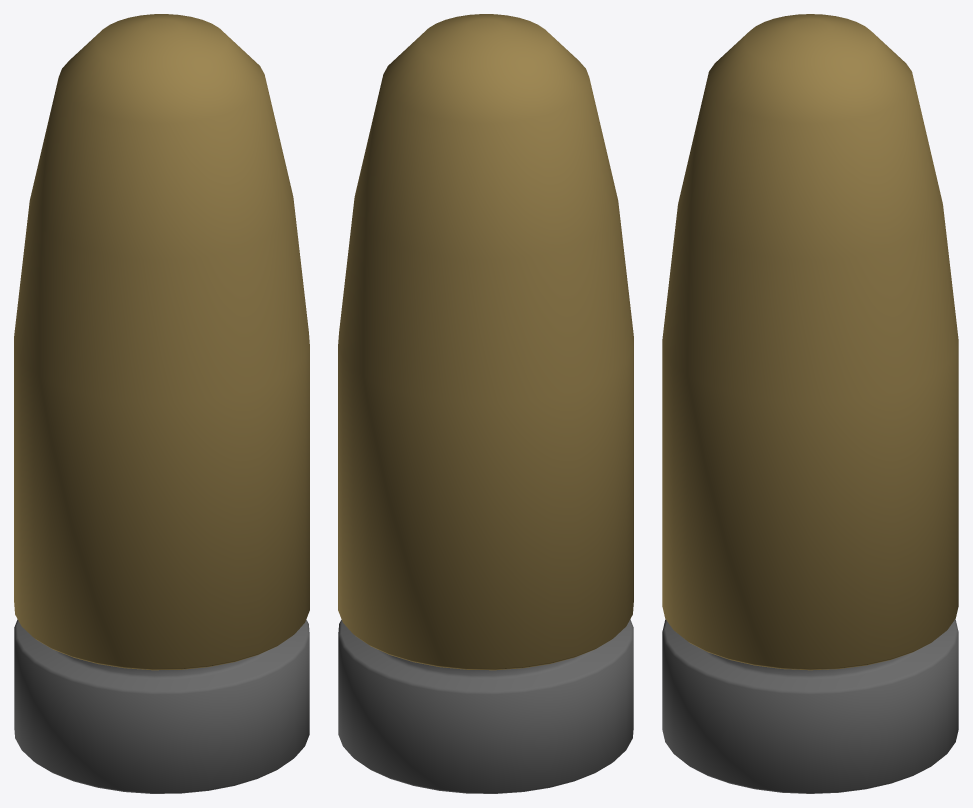
File: nabujBIG.fbx
3 renders of one model, left to right at view 1: azimuth 30°, elevation 25°; view 2: azimuth 150°, elevation 25°; view 3: azimuth 270°, elevation 25°, orthographic.
Visible parts, largest first — view 1: Cylinder; view 2: Cylinder; view 3: Cylinder.
Part boxes in pixels (box(x1,y1,x2,y2)): Cylinder: box(14, 14, 309, 793); Cylinder: box(338, 14, 633, 793); Cylinder: box(662, 14, 958, 793).
Size of the model in its own units: 4.33 by 11.37 by 4.33.
